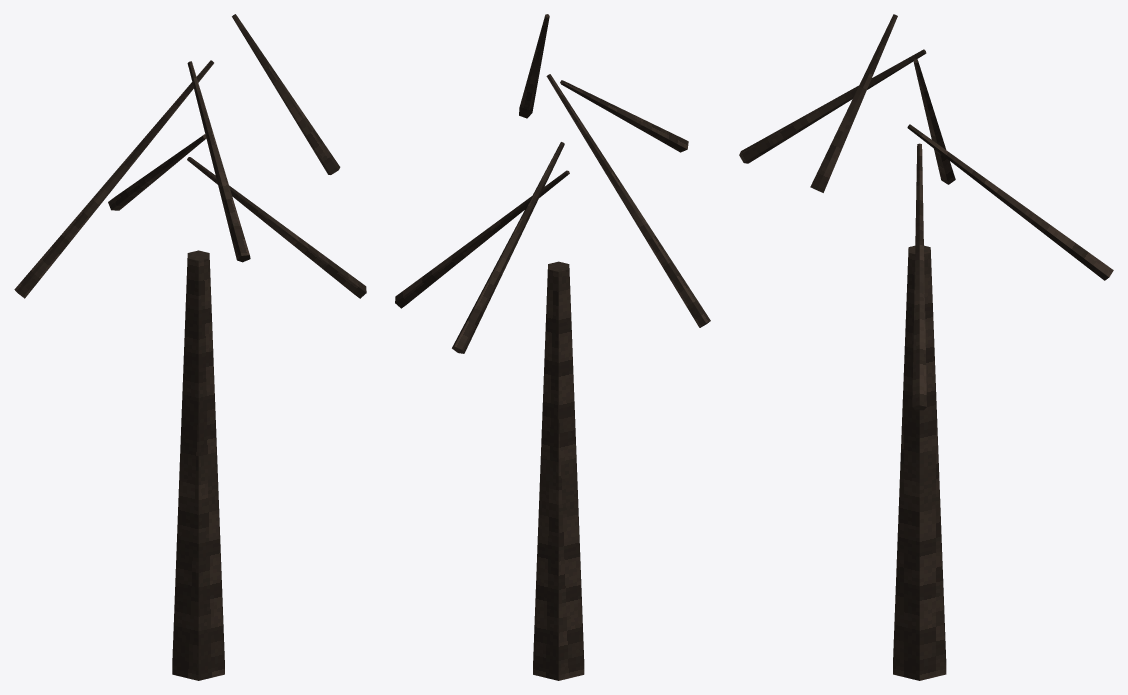
File: ENV_C_TreeDead.fbx
3 renders of one model, left to right at view 1: azimuth 30°, elevation 25°; view 2: azimuth 150°, elevation 25°; view 3: azimuth 270°, elevation 25°, orthographic. The views are drawn at different scales.
Visible parts, largest first — view 1: ENV_C_TreeDead; view 2: ENV_C_TreeDead; view 3: ENV_C_TreeDead.
Part boxes in pixels (x1=…): ENV_C_TreeDead: x1=14, y1=14, x2=366, y2=680; ENV_C_TreeDead: x1=395, y1=14, x2=710, y2=680; ENV_C_TreeDead: x1=739, y1=14, x2=1113, y2=680.
Size of the model in its own units: 307 by 573 by 292.
Materials: 1 (1 with a texture image).
